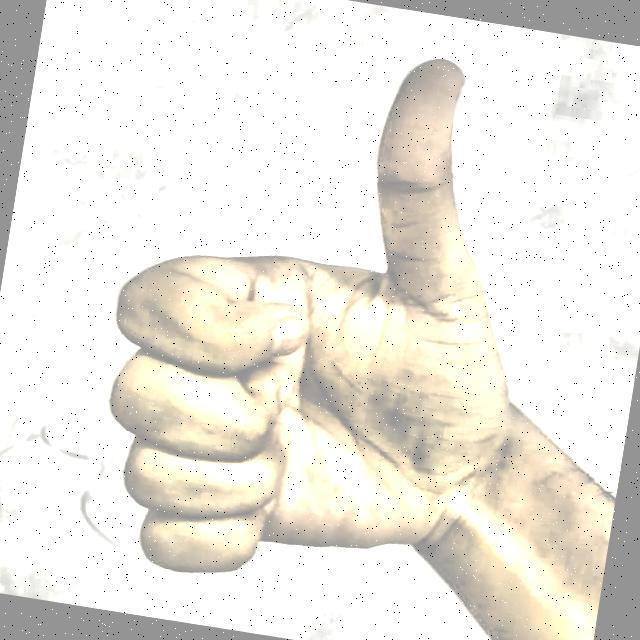Do: (15, 0, 576, 640)
